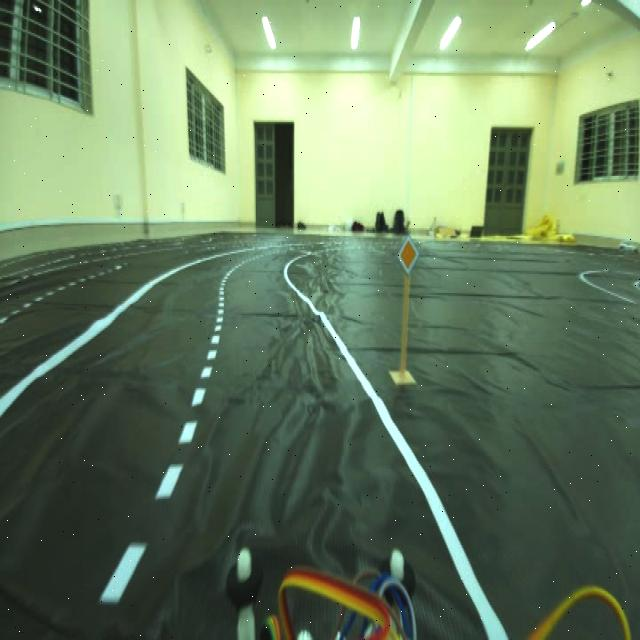priority: (394, 230, 420, 276)
